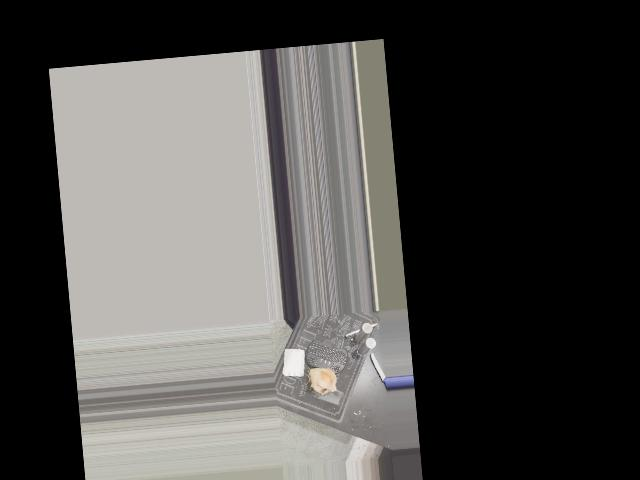onion: (307, 363, 338, 395)
